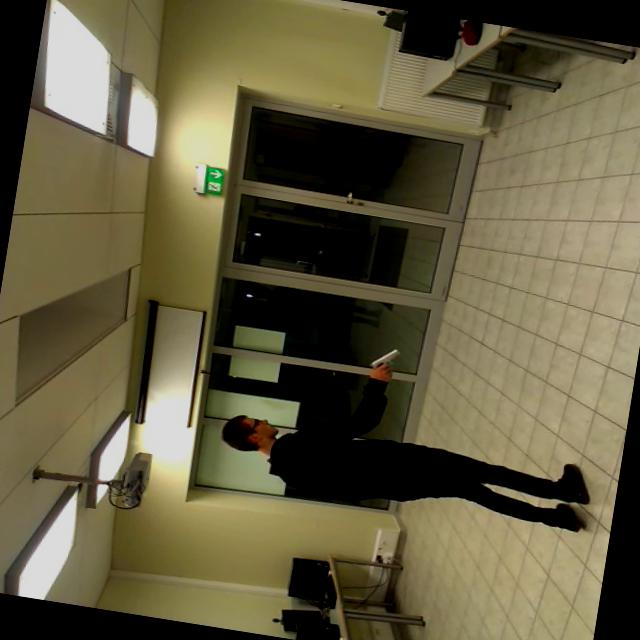handgun: (365, 341, 407, 377)
